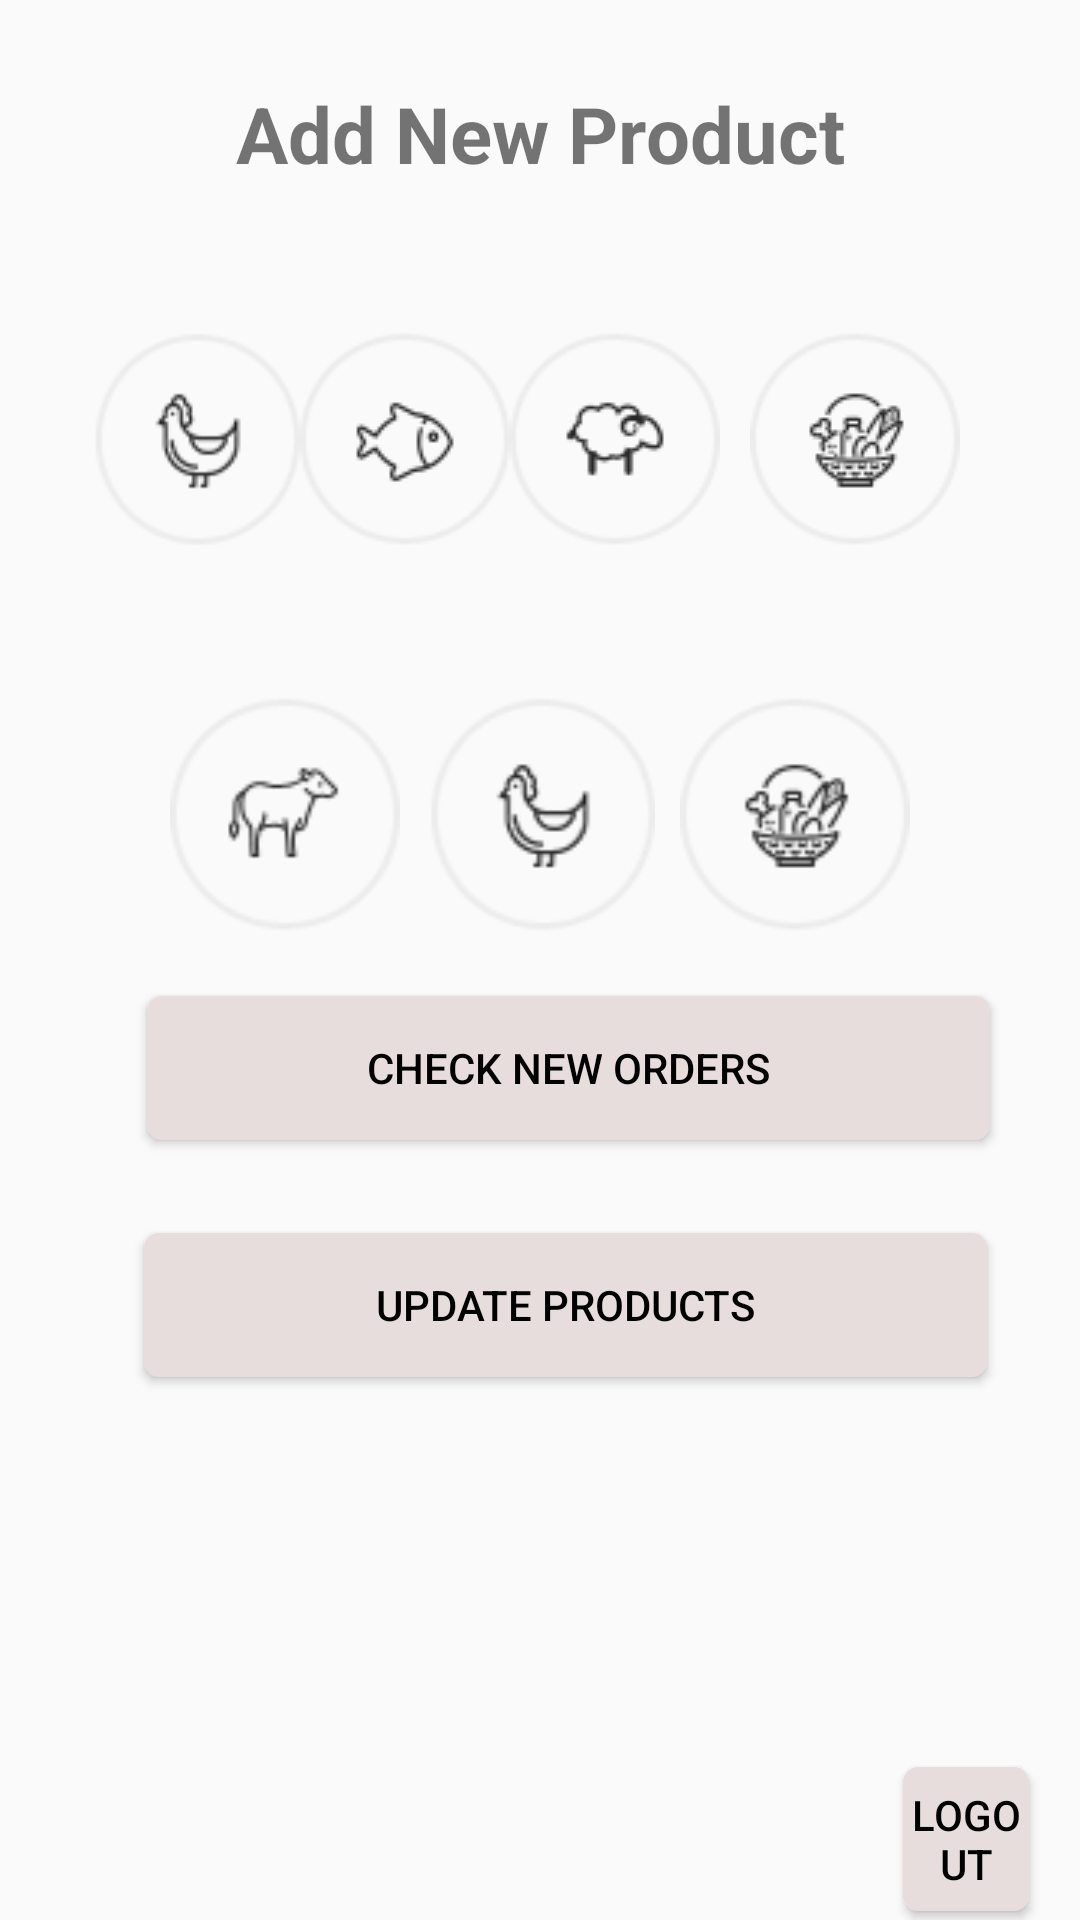

Screen size 1080×1920. Icon name, then its center in pixels as (x=x, y=y):
cir beaf: (x=283, y=812)
cir fish: (x=405, y=442)
cir fruits vegs: (x=856, y=440), (x=796, y=816)
cir lamb: (x=615, y=439)
organic chicken: (x=198, y=441), (x=543, y=816)
